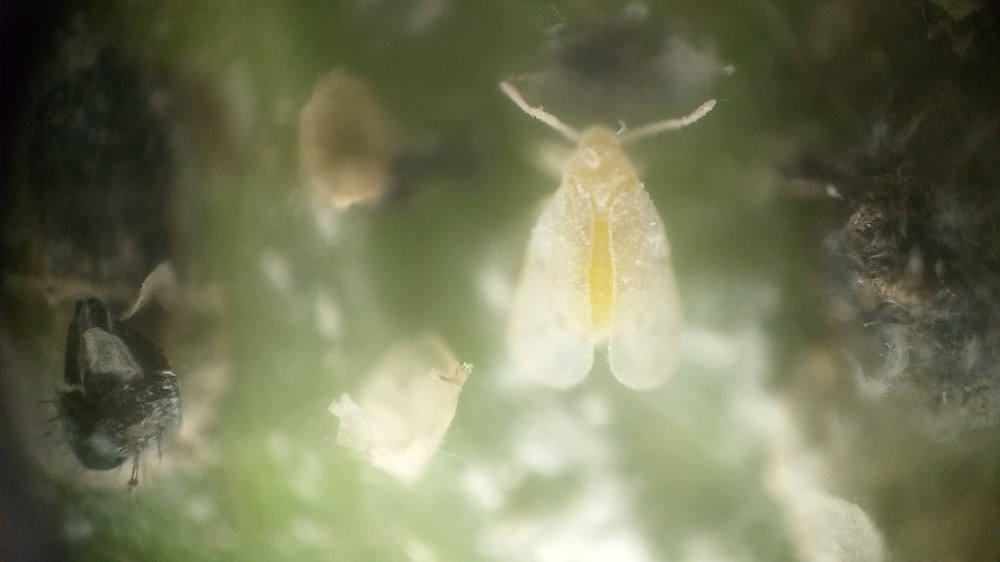Mosca Blanca: (457, 62, 740, 393)
